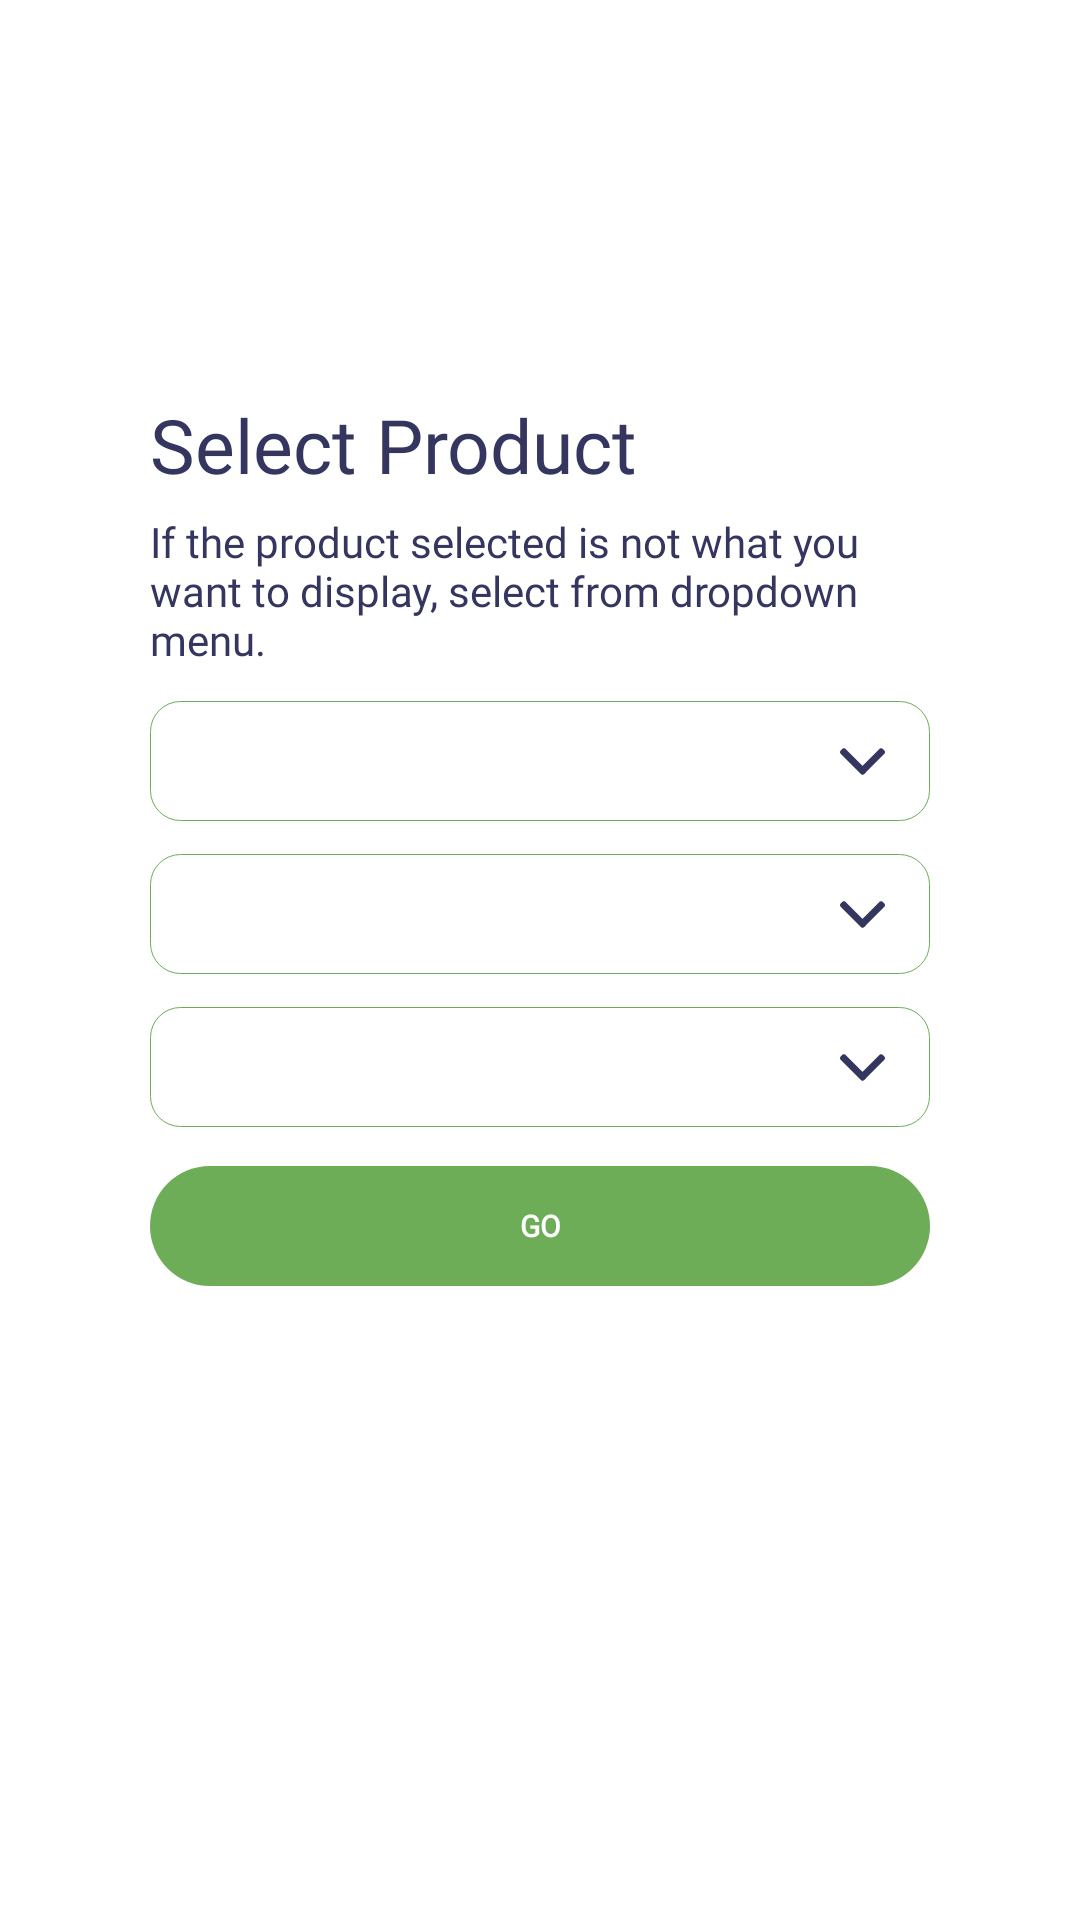

Screen size 1080x1920. Icon name, then its center in pixels as (x,y):
down arrow: (862,761), (862,914), (862,1067)
